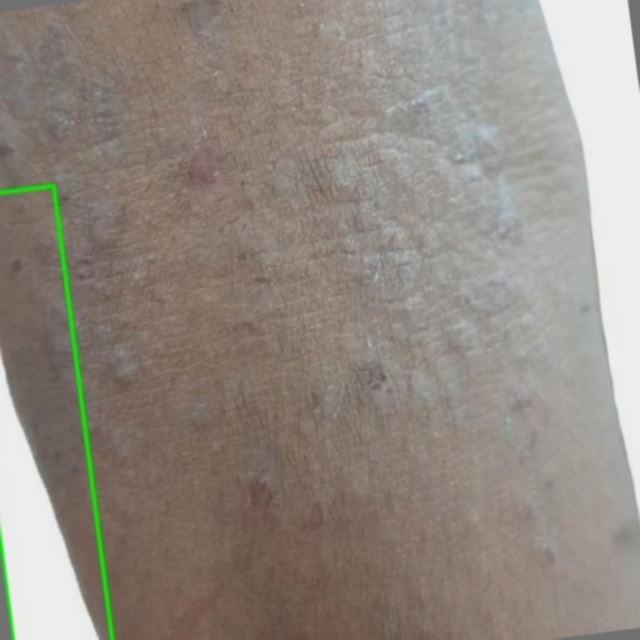Atopic Dermatitis: (0, 185, 112, 639)
